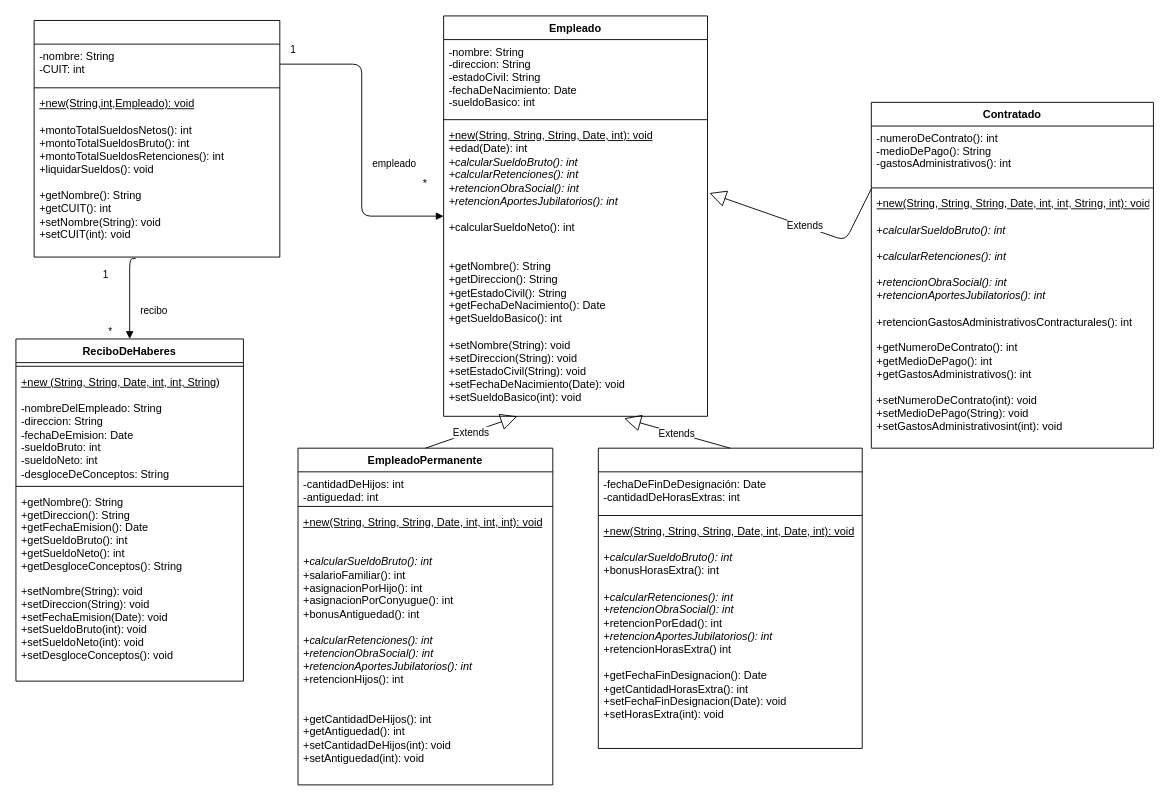
Image size: 1169x804. Some labels were removed from this diagram. Here are the shapes that lost their labels. From the top down, the box of each, then its label:
(33, 20, 280, 257): Empresa
(597, 447, 862, 748): EmpleadoTemporal
